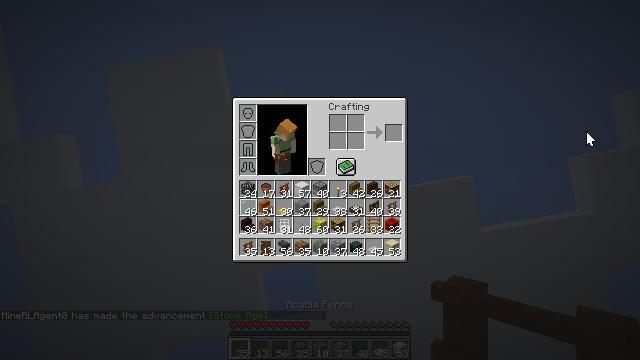cursor: (586, 131, 596, 147)
